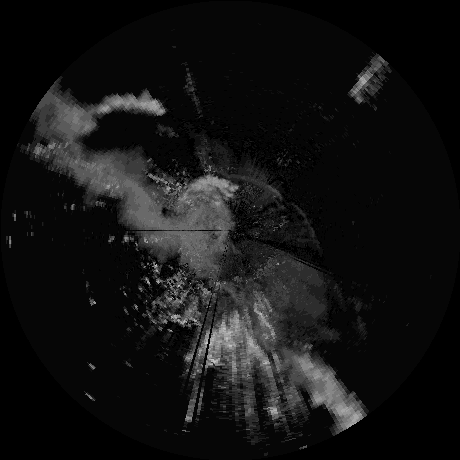frontgust: (217, 169, 284, 198)
